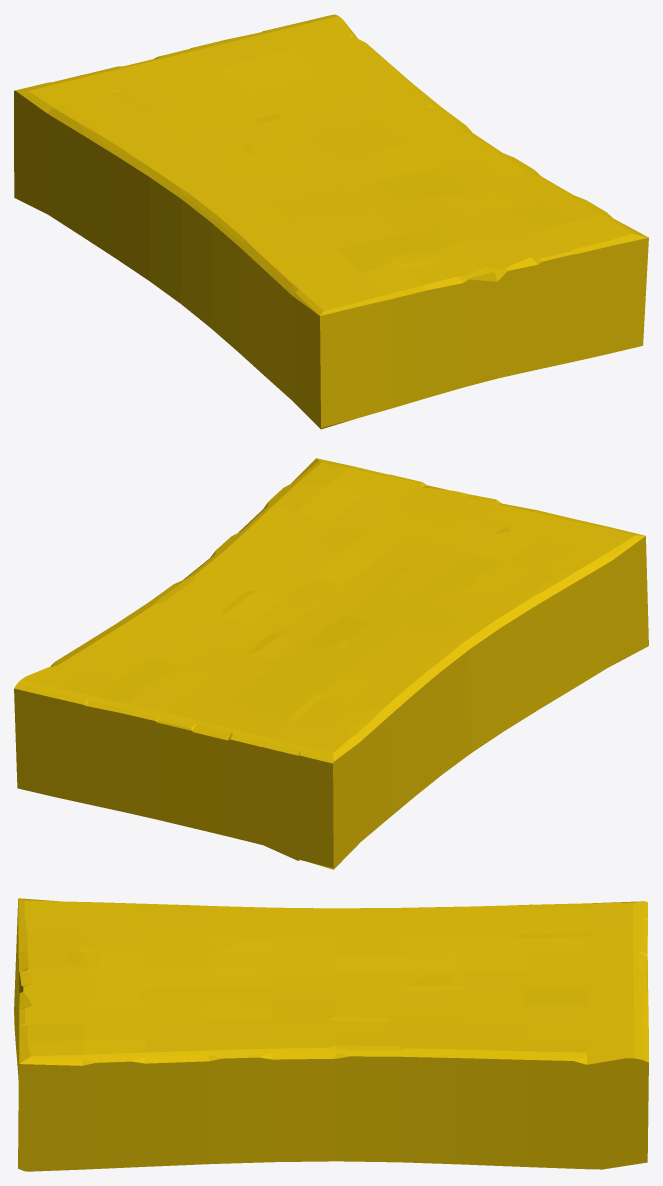
The model's file is EarthPlatformModel.fbx.
3 views of the same model, one above another, from view 1: azimuth 30°, elevation 25°; view 2: azimuth 150°, elevation 25°; view 3: azimuth 270°, elevation 25° (orthographic).
Visible parts, largest first — view 1: Cube; view 2: Cube; view 3: Cube.
Part boxes in pixels (left/top/right/bottom): Cube: left=14, top=14, right=648, bottom=429; Cube: left=14, top=458, right=648, bottom=869; Cube: left=14, top=898, right=648, bottom=1171.
Bounding box in the file's own units: 617 × 212 × 1010.
